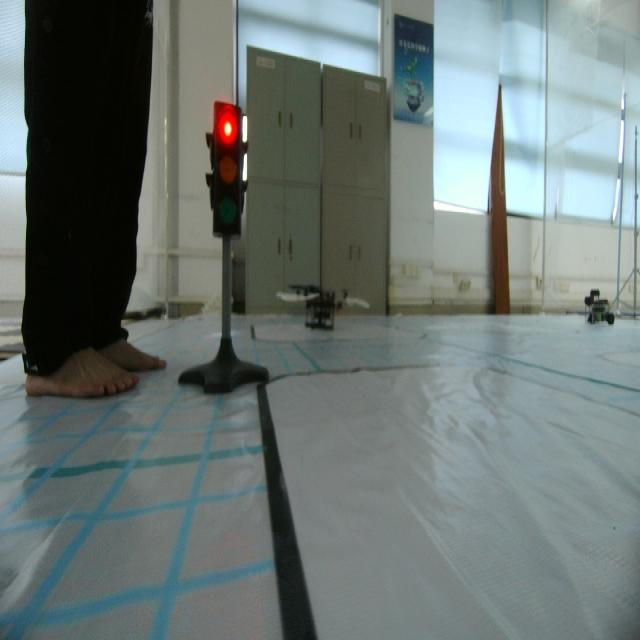red: (204, 92, 248, 245)
